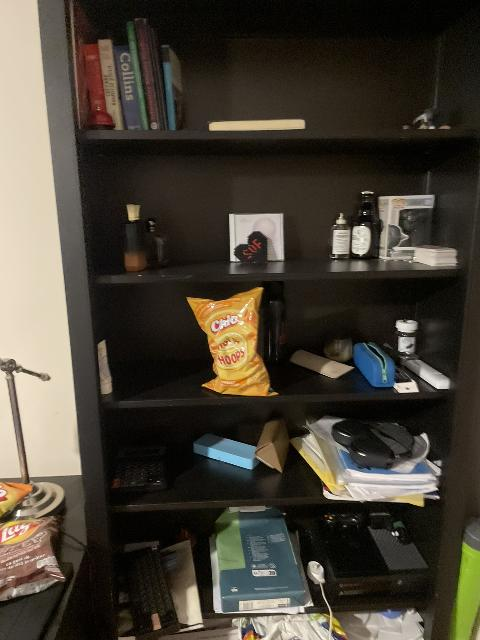Chio Cascaval 125g: (0, 480, 33, 520)
Chio Hula Hoops Cheese 70g: (185, 290, 276, 395)
Lays Beef Grilled Ribs 125g: (0, 515, 67, 602)
